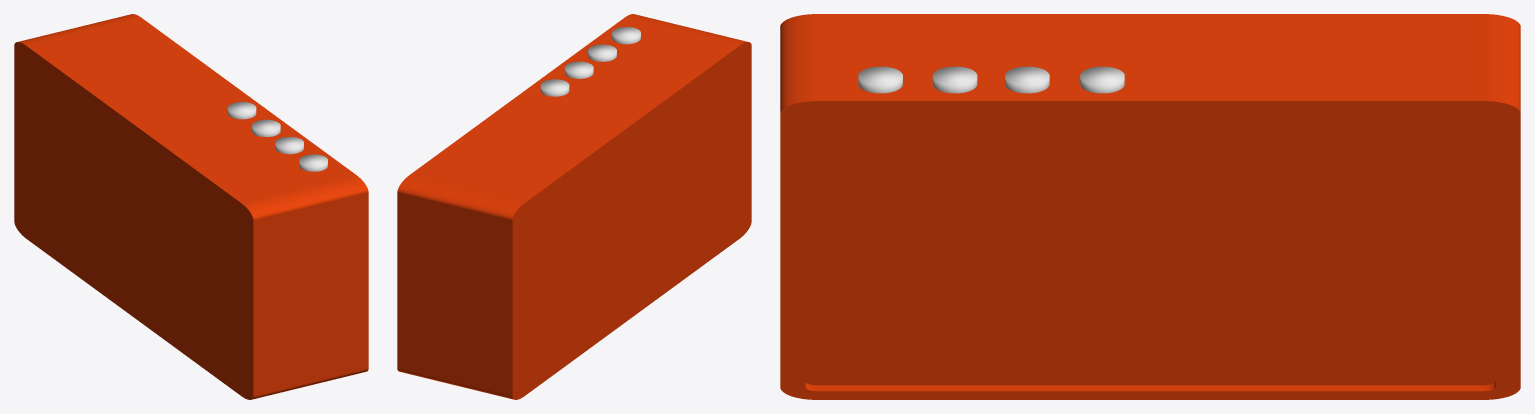
The model's file is jukebox.glb.
3 renders of one model, left to right at view 1: azimuth 30°, elevation 25°; view 2: azimuth 150°, elevation 25°; view 3: azimuth 270°, elevation 25°, orthographic. The views are drawn at different scales.
Parts seen in each view (by area): view 1: Cube, Dial.003, Dial, Dial.001, Dial.002; view 2: Cube, Dial.003, Dial.002, Dial.001, Dial; view 3: Cube, Dial.001, Dial, Dial.003, Dial.002.
Part boxes in pixels (x1,y1,x2,y2): Cube: [14, 14, 368, 399]; Dial.003: [227, 102, 256, 119]; Dial: [299, 154, 327, 171]; Dial.001: [275, 136, 303, 154]; Dial.002: [252, 119, 280, 136]; Cube: [397, 14, 751, 399]; Dial.003: [540, 79, 569, 96]; Dial.002: [564, 61, 593, 78]; Dial.001: [588, 44, 616, 61]; Dial: [612, 27, 640, 44]; Cube: [780, 14, 1520, 399]; Dial.001: [932, 66, 977, 93]; Dial: [858, 66, 902, 93]; Dial.003: [1080, 66, 1124, 93]; Dial.002: [1005, 66, 1049, 93].
Bounding box in the file's own units: 1.13 × 1.86 × 4.07.
